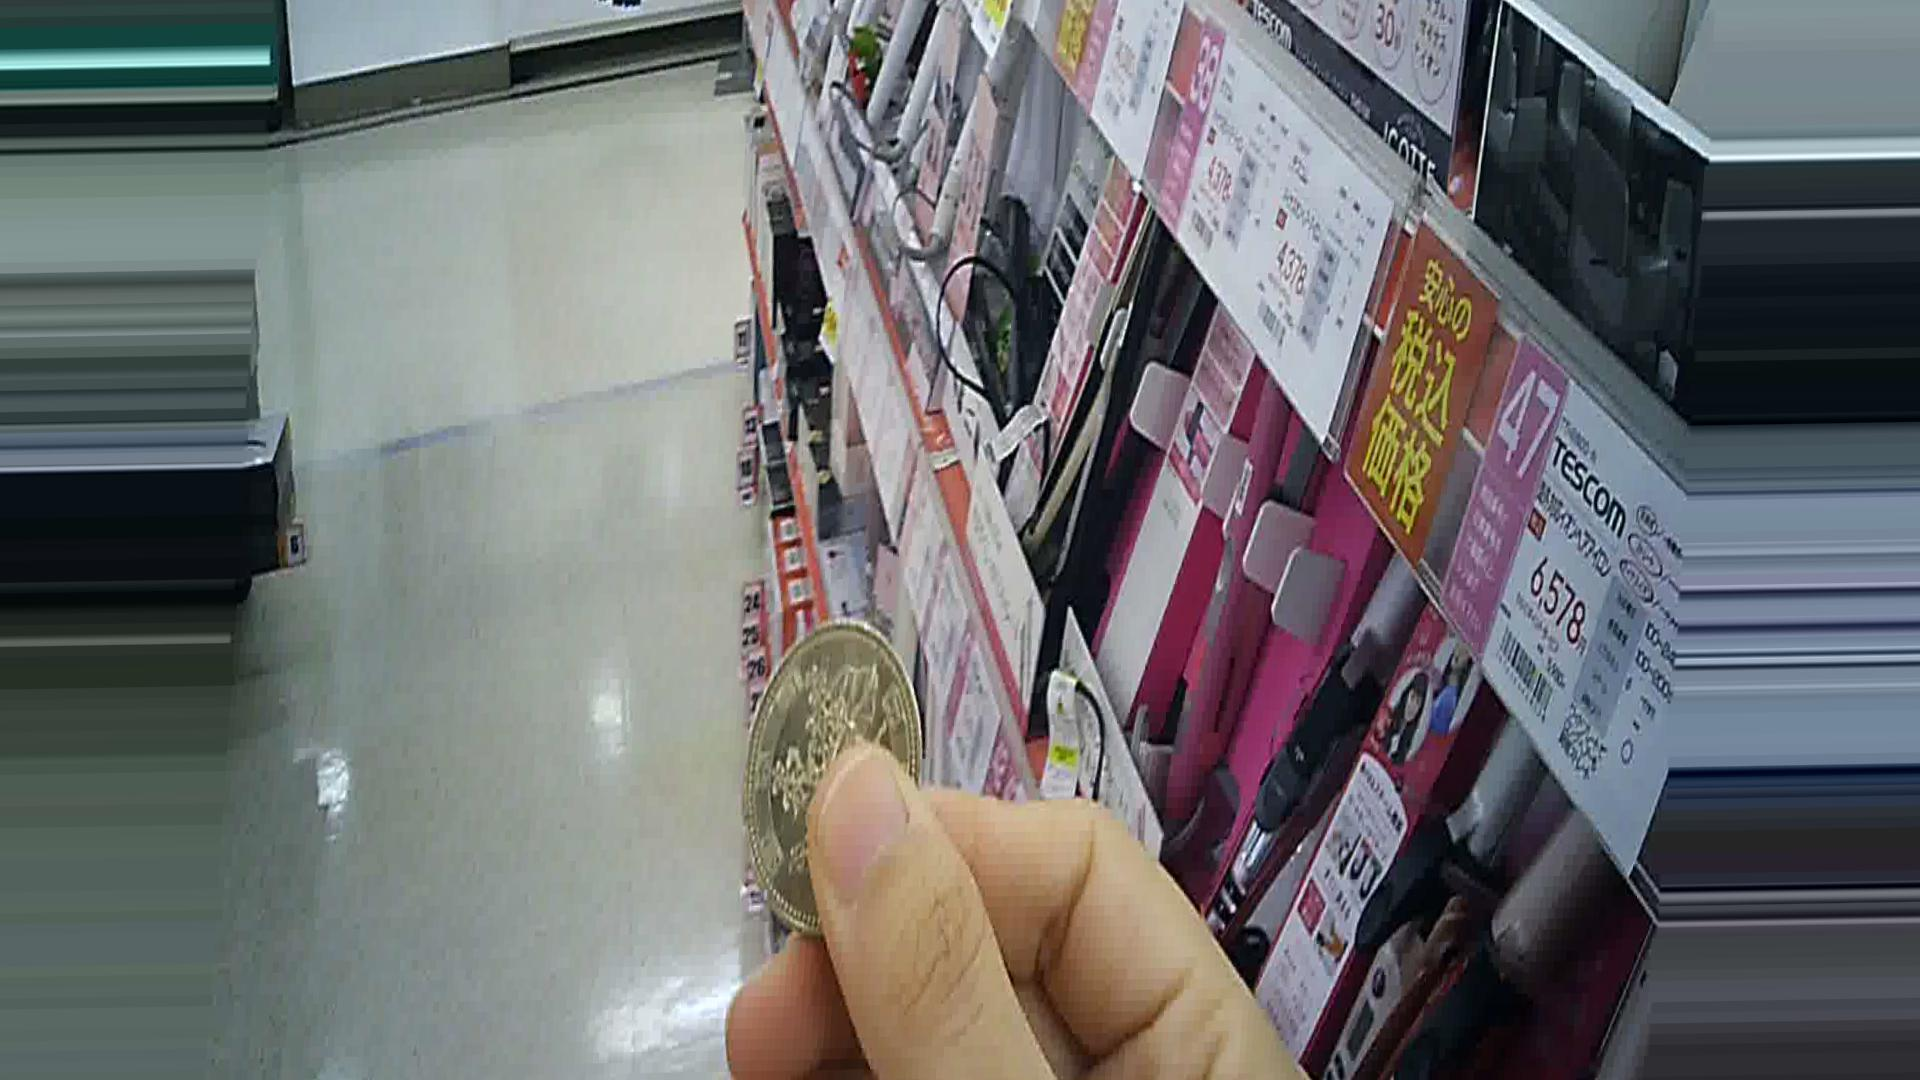500 Yen: (728, 620, 918, 928)
